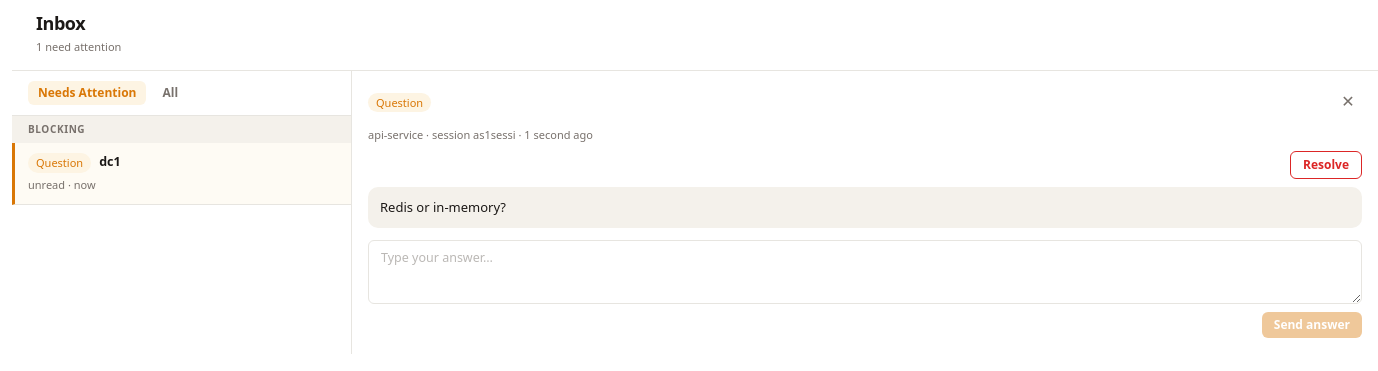
Test case: Inbox selection + detail › closing the detail panel clears the selection
Expected: the text "Redis or in-memory?" is shown, [368,187,1362,228]
Click the button titled "Close": point(1348, 100) [1334,86,1362,114]
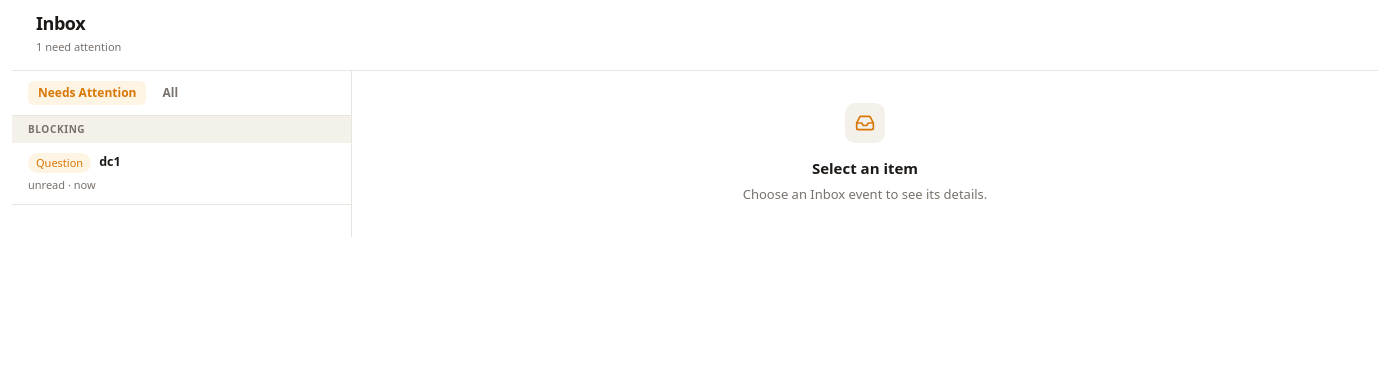
Expected: the heading "Select an item" is shown, [812,158,918,178]
Expected: the text "Redis or in-memory?" is gone
